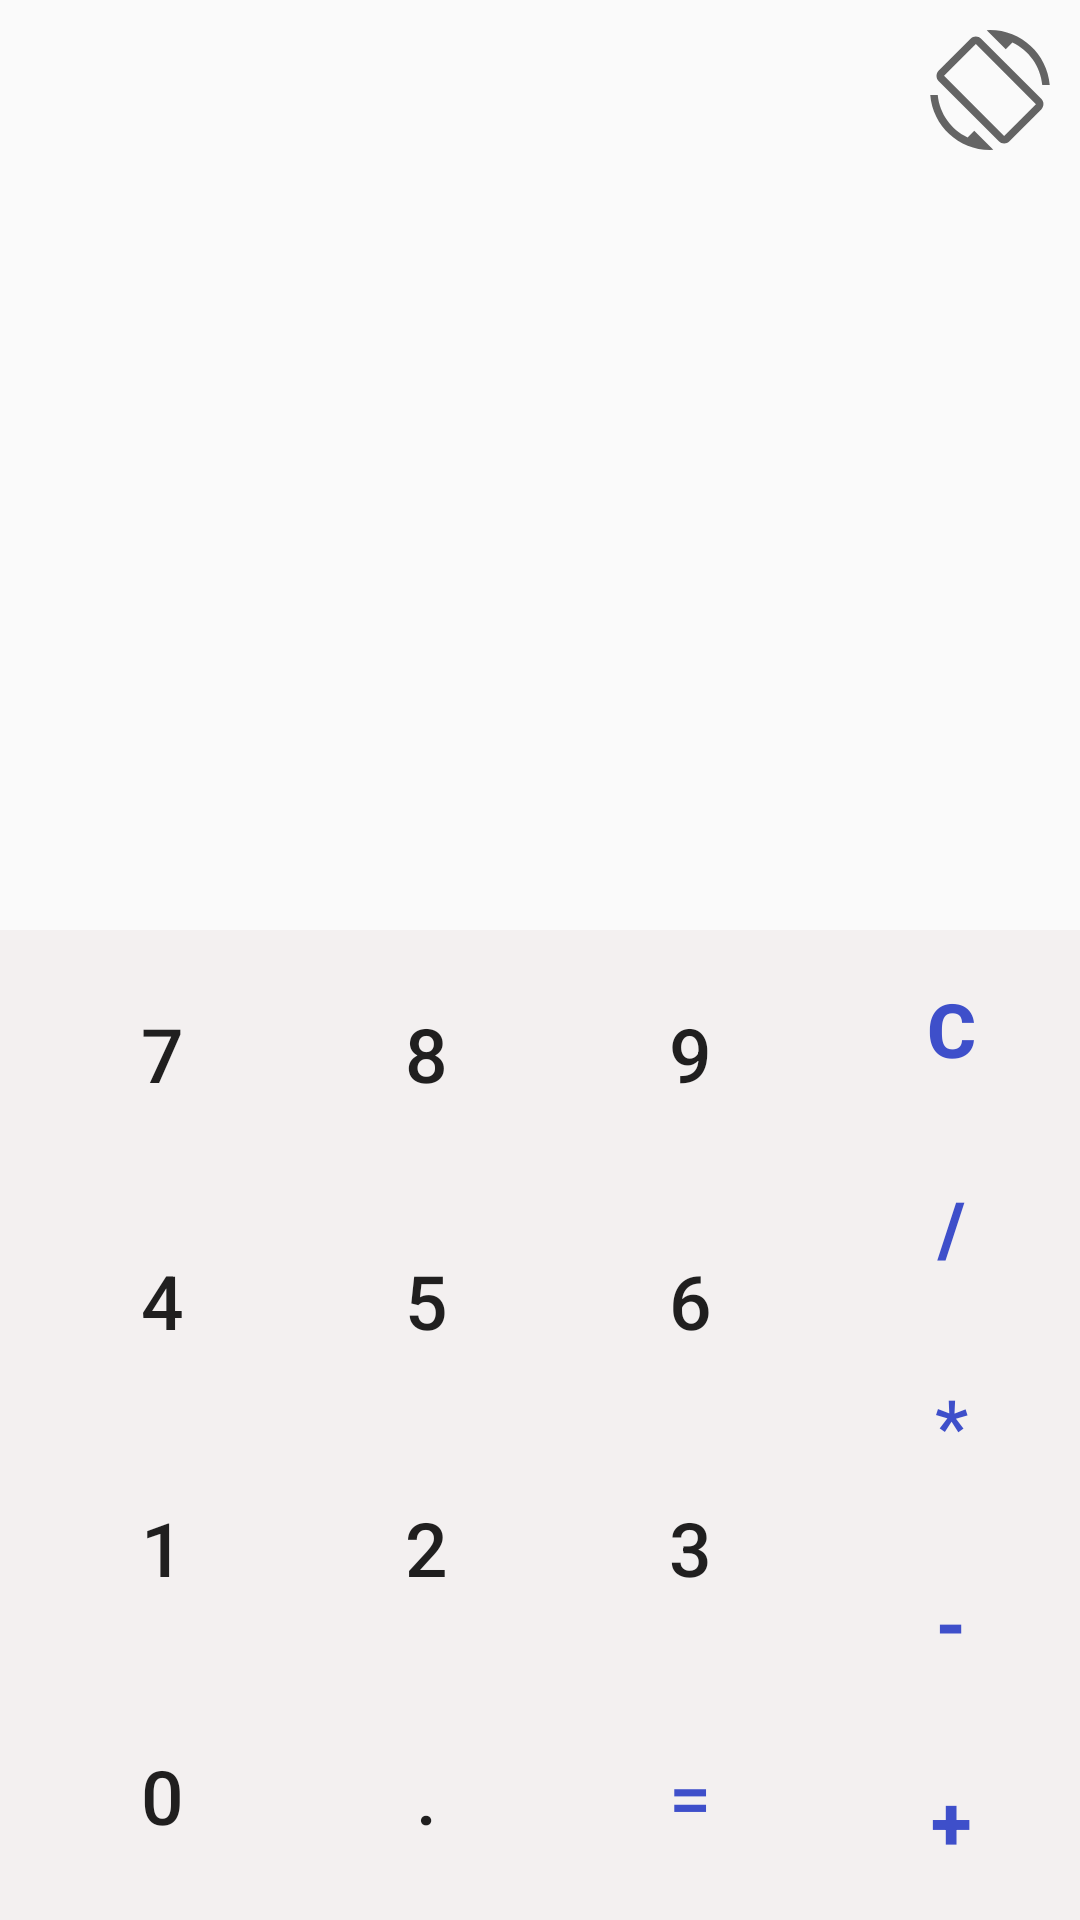

Screen size 1080px×1920px. Icon name, then its box in pixels as [x1,y1,x2,y2]:
screen rotation: [930,30,1050,150]
